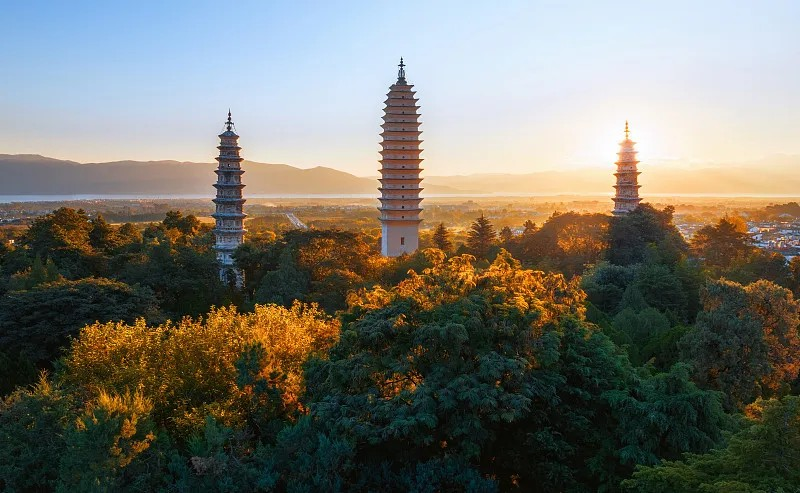ThreePagoda: (378, 56, 424, 256)
